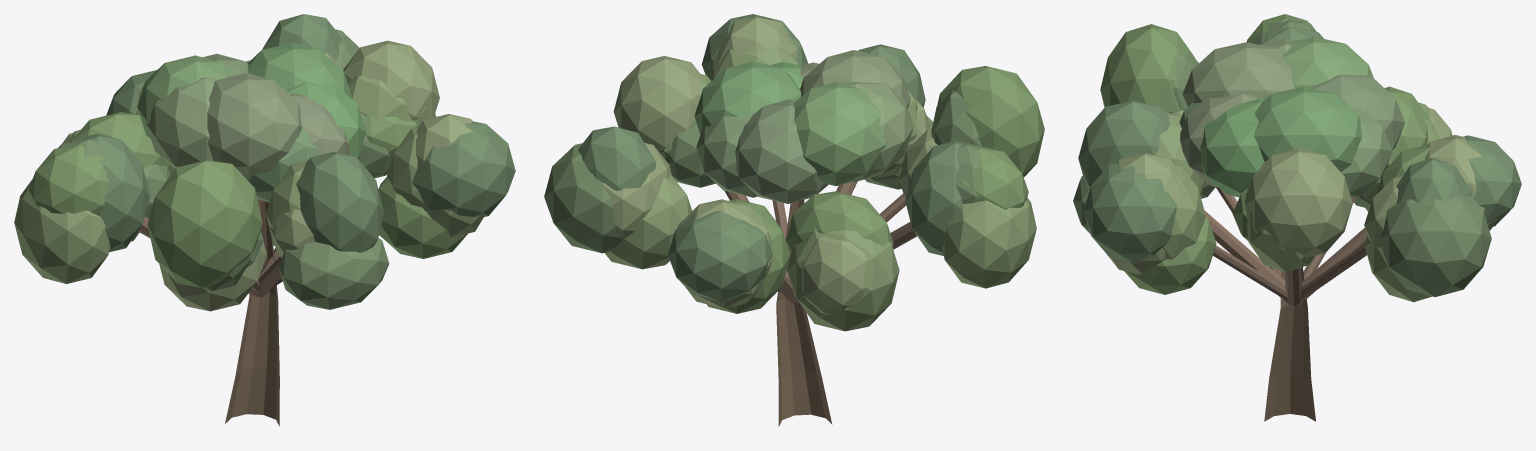
The model's file is old_oak_1.glb.
3 views of the same model, side by side, from view 1: azimuth 30°, elevation 25°; view 2: azimuth 150°, elevation 25°; view 3: azimuth 270°, elevation 25° (orthographic). The views are drawn at different scales.
Visible parts, largest first — view 1: old_oak_1_20, old_oak_1_46, old_oak_1_14, old_oak_1_10, old_oak_1_25, old_oak_1_0, old_oak_1_15, old_oak_1_43, old_oak_1_24, old_oak_1_5, old_oak_1_22, old_oak_1_7 (+21 smaller); view 2: old_oak_1_48, old_oak_1_35, old_oak_1_25, old_oak_1_20, old_oak_1_45, old_oak_1_5, old_oak_1_40, old_oak_1_0, old_oak_1_29, old_oak_1_22, old_oak_1_47, old_oak_1_30 (+19 smaller); view 3: old_oak_1_40, old_oak_1_5, old_oak_1_10, old_oak_1_47, old_oak_1_20, old_oak_1_46, old_oak_1_14, old_oak_1_0, old_oak_1_44, old_oak_1_35, old_oak_1_48, old_oak_1_7 (+24 smaller).
Part boxes in pixels (x1,y1,x2,y2): old_oak_1_20: [147, 160, 262, 287]; old_oak_1_46: [207, 73, 301, 179]; old_oak_1_14: [296, 151, 383, 252]; old_oak_1_10: [412, 121, 515, 217]; old_oak_1_25: [14, 179, 110, 283]; old_oak_1_0: [225, 199, 279, 426]; old_oak_1_15: [278, 238, 389, 309]; old_oak_1_43: [146, 77, 217, 168]; old_oak_1_24: [29, 145, 108, 216]; old_oak_1_5: [343, 40, 439, 120]; old_oak_1_22: [70, 133, 149, 252]; old_oak_1_7: [378, 177, 467, 258]; old_oak_1_48: [793, 81, 886, 186]; old_oak_1_35: [668, 211, 772, 301]; old_oak_1_25: [942, 197, 1036, 288]; old_oak_1_20: [937, 66, 1044, 177]; old_oak_1_45: [735, 99, 828, 203]; old_oak_1_5: [613, 56, 701, 152]; old_oak_1_40: [544, 143, 625, 253]; old_oak_1_0: [776, 200, 832, 426]; old_oak_1_29: [787, 228, 899, 331]; old_oak_1_22: [905, 140, 975, 255]; old_oak_1_47: [694, 61, 801, 133]; old_oak_1_30: [801, 236, 868, 317]; old_oak_1_40: [1380, 196, 1491, 297]; old_oak_1_5: [1245, 148, 1352, 257]; old_oak_1_10: [1083, 163, 1176, 263]; old_oak_1_47: [1254, 86, 1361, 171]; old_oak_1_20: [1100, 24, 1194, 113]; old_oak_1_46: [1182, 42, 1295, 106]; old_oak_1_14: [1078, 100, 1170, 188]; old_oak_1_0: [1264, 267, 1315, 421]; old_oak_1_44: [1200, 98, 1265, 197]; old_oak_1_35: [1463, 135, 1521, 226]; old_oak_1_48: [1283, 36, 1373, 88]; old_oak_1_7: [1124, 216, 1216, 294].
Size of the model in its own units: 9.22 by 7.82 by 8.72.
